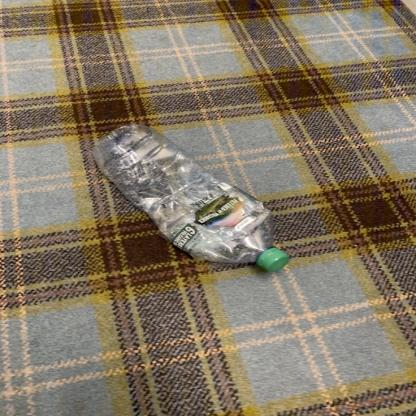trash: (96, 124, 292, 272)
